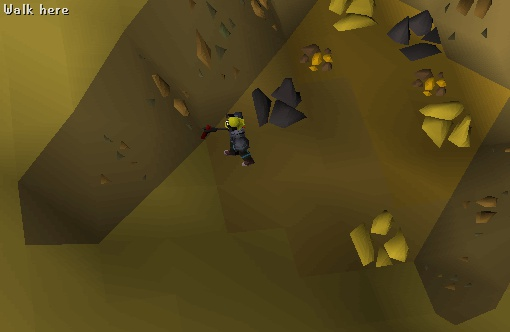depleted: (241, 77, 315, 136), (381, 10, 455, 69)
gold: (343, 205, 419, 273), (409, 93, 485, 161)
